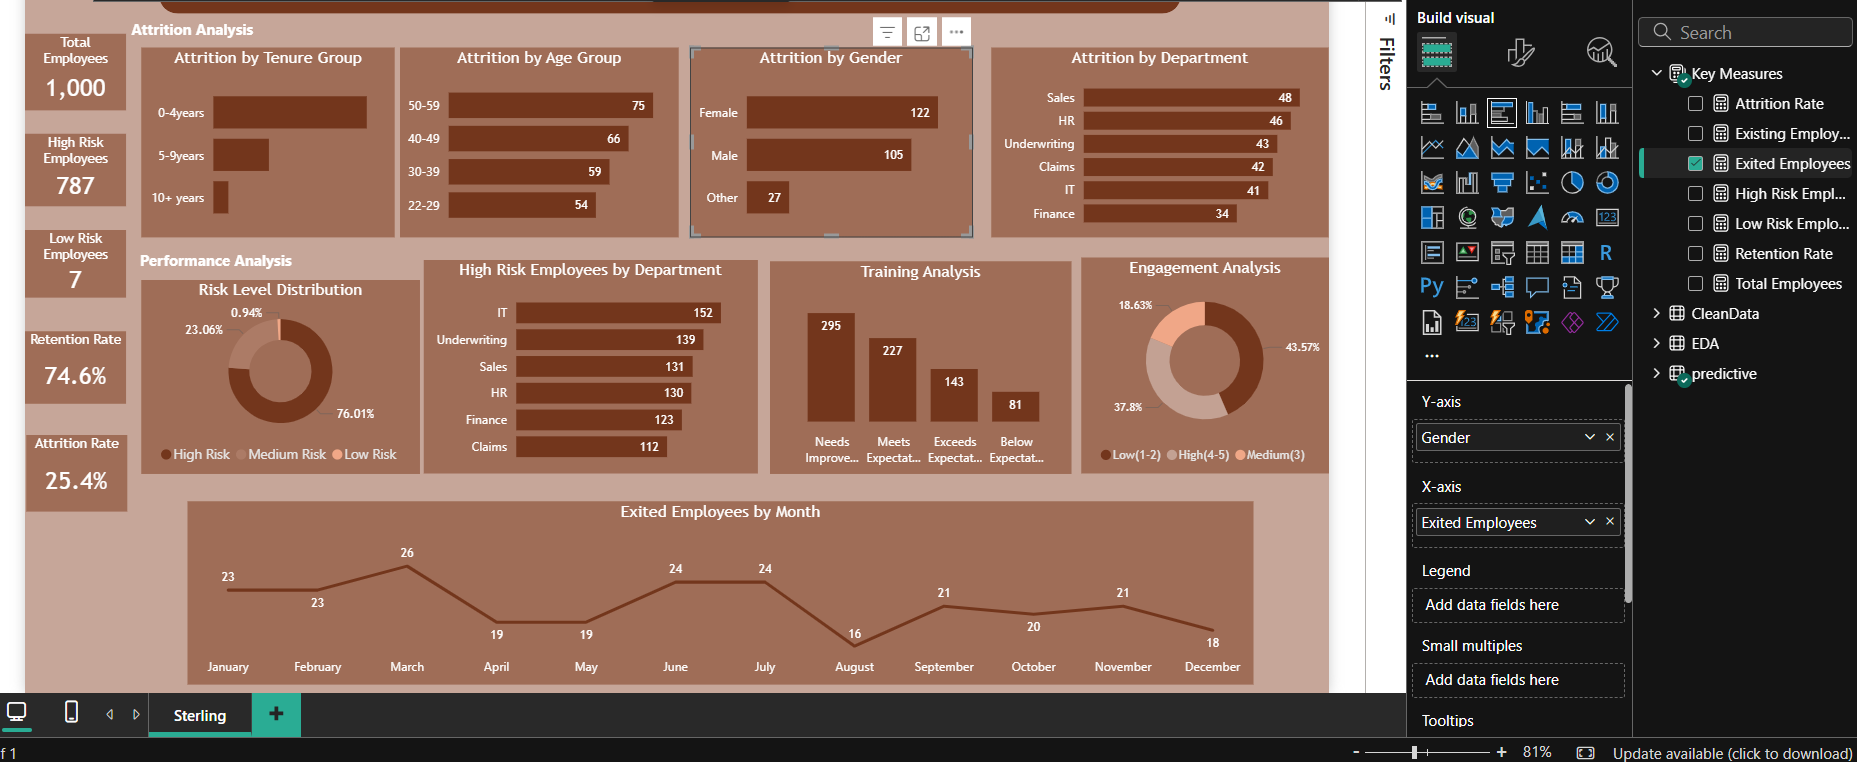

Layout of this report page (visuals, bound fields, positions):
{"tool":"powerbi","page":{"name":"Sterling","canvas":[1280,720],"ordinal":0},"visuals":[{"type":"card","title":"Total Employees","fields":{"Values":["Key Measures.Total Employees"]},"box":[0,72.4,99.4,74.8],"z":0},{"type":"card","title":"High Risk Employees","fields":{"Values":["Key Measures.High Risk Employees"]},"box":[0,170.6,99.4,71.2],"z":1000},{"type":"card","title":"Low Risk Employees","fields":{"Values":["Key Measures.Low Risk Employees"]},"box":[0,265,99.4,66.3],"z":2000},{"type":"card","title":"Retention Rate","fields":{"Values":["Key Measures.Retention Rate"]},"box":[0,364.4,99.4,71.2],"z":3000},{"type":"card","title":"Attrition Rate","fields":{"Values":["Key Measures.Attrition Rate"]},"box":[1.2,466.3,99.4,74.8],"z":4000},{"type":"clusteredBarChart","title":"Attrition by Tenure Group","fields":{"Category":["predictive.Tenure Group"],"Y":["Key Measures.Exited Employees"]},"box":[114.1,85.9,249.1,186.5],"z":5000},{"type":"clusteredBarChart","title":"Attrition by Age Group","fields":{"Category":["predictive.Age Group"],"Y":["Key Measures.Exited Employees"]},"box":[368.1,85.9,273.6,186.5],"z":6000},{"type":"clusteredBarChart","title":"Attrition by Gender","fields":{"Category":["predictive.Gender"],"Y":["Key Measures.Exited Employees"]},"box":[652.8,85.9,277.3,186.5],"z":7000},{"type":"clusteredBarChart","title":"Attrition by Department","fields":{"Category":["predictive.Department"],"Y":["Key Measures.Exited Employees"]},"box":[948.5,85.9,331.3,186.5],"z":8000},{"type":"donutChart","title":"Risk Level Distribution","fields":{"Category":["predictive.Risk Level"],"Y":["Key Measures.Existing Employees"]},"box":[114.1,314.1,273.6,190.2],"z":9000},{"type":"clusteredBarChart","title":"High Risk Employees by Department","fields":{"Category":["predictive.Department"],"Y":["Key Measures.High Risk Employees"]},"box":[391.4,294.5,327.6,209.8],"z":10000},{"type":"clusteredColumnChart","title":"Training Analysis","fields":{"Category":["predictive.Training Bands"],"Y":["Key Measures.Existing Employees"]},"box":[731.3,295.7,295.7,208.6],"z":11000},{"type":"donutChart","title":"Engagement Analysis","fields":{"Y":["Key Measures.Existing Employees"],"Category":["predictive.Engagement Band"]},"box":[1036.8,292,242.9,212.3],"z":12000},{"type":"textbox","box":[108,279.8,279.8,39.3],"z":13000},{"type":"textbox","box":[99.4,52.8,279.8,39.3],"z":14000},{"type":"shape","box":[131.3,11,1003.7,41.7],"z":15000},{"type":"textbox","box":[99.4,11,911.7,41.7],"z":16000},{"type":"lineChart","fields":{"Category":["CleanData.Date_of_Exit.Variation.Date Hierarchy.Month"],"Y":["Key Measures.Exited Employees"]},"box":[159.5,531.3,1046.6,180.4],"z":17000}]}

Visuals, with their boxes on the page's 1280x720 design canvas (x1, y1, x2, y2). These are canvas units, not pixel positions in the 1857x762 screenshot, which may show the page scaled, cropped or inside an application window:
"Total Employees" card: [left=0, top=72, right=99, bottom=147]
"High Risk Employees" card: [left=0, top=171, right=99, bottom=242]
"Low Risk Employees" card: [left=0, top=265, right=99, bottom=331]
"Retention Rate" card: [left=0, top=364, right=99, bottom=436]
"Attrition Rate" card: [left=1, top=466, right=101, bottom=541]
"Attrition by Tenure Group" clusteredBarChart: [left=114, top=86, right=363, bottom=272]
"Attrition by Age Group" clusteredBarChart: [left=368, top=86, right=642, bottom=272]
"Attrition by Gender" clusteredBarChart: [left=653, top=86, right=930, bottom=272]
"Attrition by Department" clusteredBarChart: [left=948, top=86, right=1280, bottom=272]
"Risk Level Distribution" donutChart: [left=114, top=314, right=388, bottom=504]
"High Risk Employees by Department" clusteredBarChart: [left=391, top=294, right=719, bottom=504]
"Training Analysis" clusteredColumnChart: [left=731, top=296, right=1027, bottom=504]
"Engagement Analysis" donutChart: [left=1037, top=292, right=1280, bottom=504]
textbox: [left=108, top=280, right=388, bottom=319]
textbox: [left=99, top=53, right=379, bottom=92]
shape: [left=131, top=11, right=1135, bottom=53]
textbox: [left=99, top=11, right=1011, bottom=53]
lineChart - CleanData.Date_of_Exit.Variation.Date Hierarchy.Month x Key Measures.Exited Employees: [left=160, top=531, right=1206, bottom=712]
